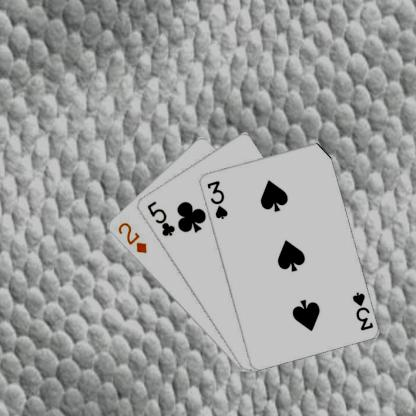2D: (115, 220, 148, 255)
3S: (204, 178, 228, 220), (350, 290, 374, 331)
5C: (144, 198, 176, 238)
